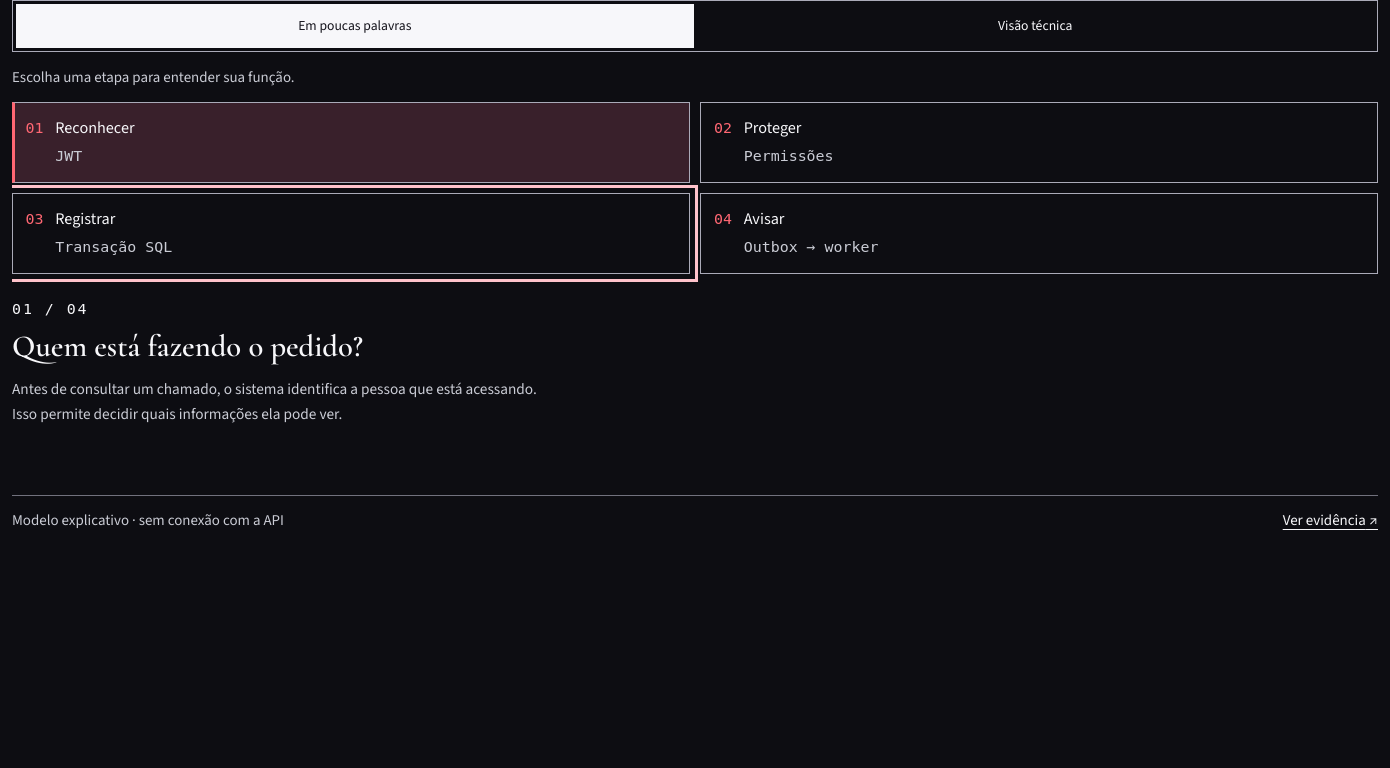
Test case: pt interactive components › preserves the selected request step when switching reading depth
Step 1. Type keys " "
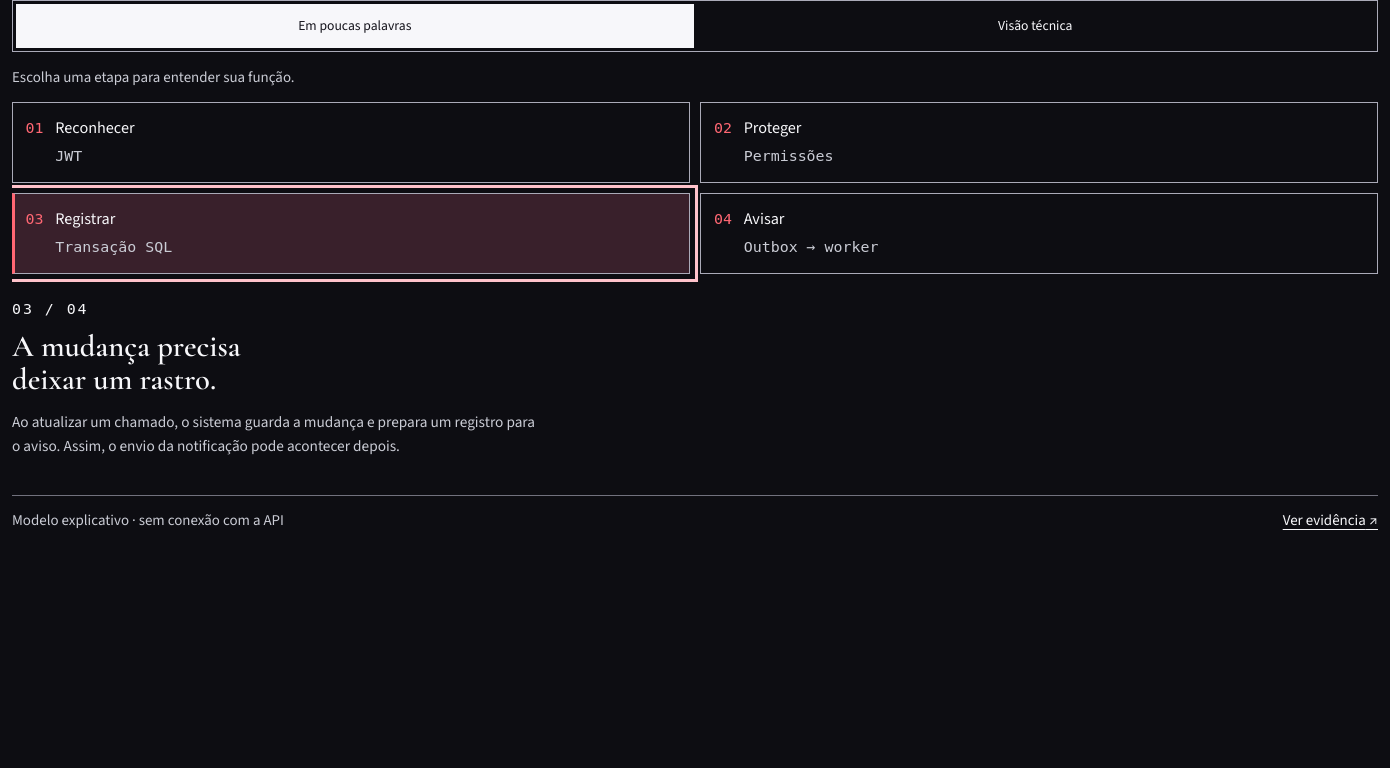
Step 2. Click the button "Visão técnica" → {"x": 1035, "y": 26}, box [696,4,1374,48]
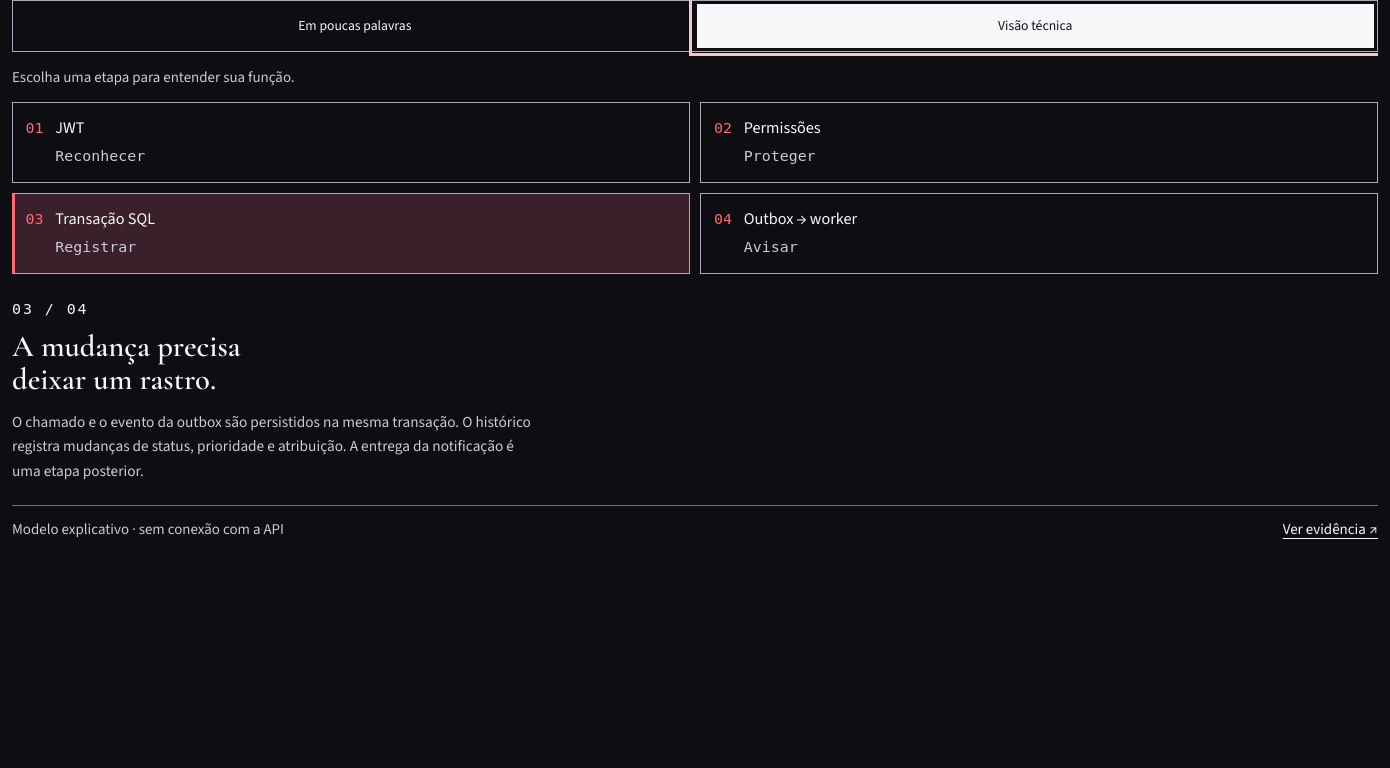
Check: the text "Outbox" is shown, box [744,207,857,230]
Check: the button "03 Transação SQL Registrar" is pressed, box [12,193,690,274]
Step 3. Click the button "Em poucas palavras" → {"x": 355, "y": 26}, box [16,4,694,48]
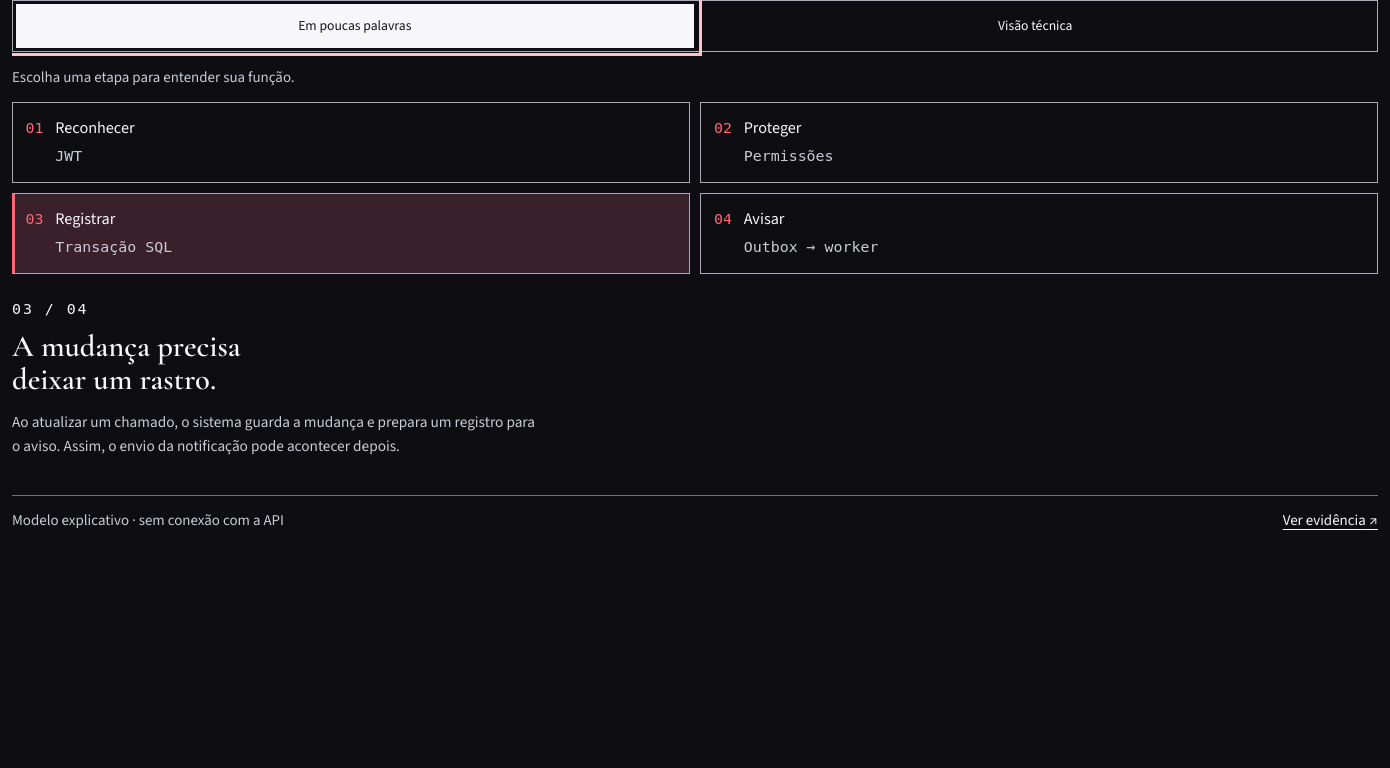
Check: the text "depois" is shown, box [12,411,535,457]
